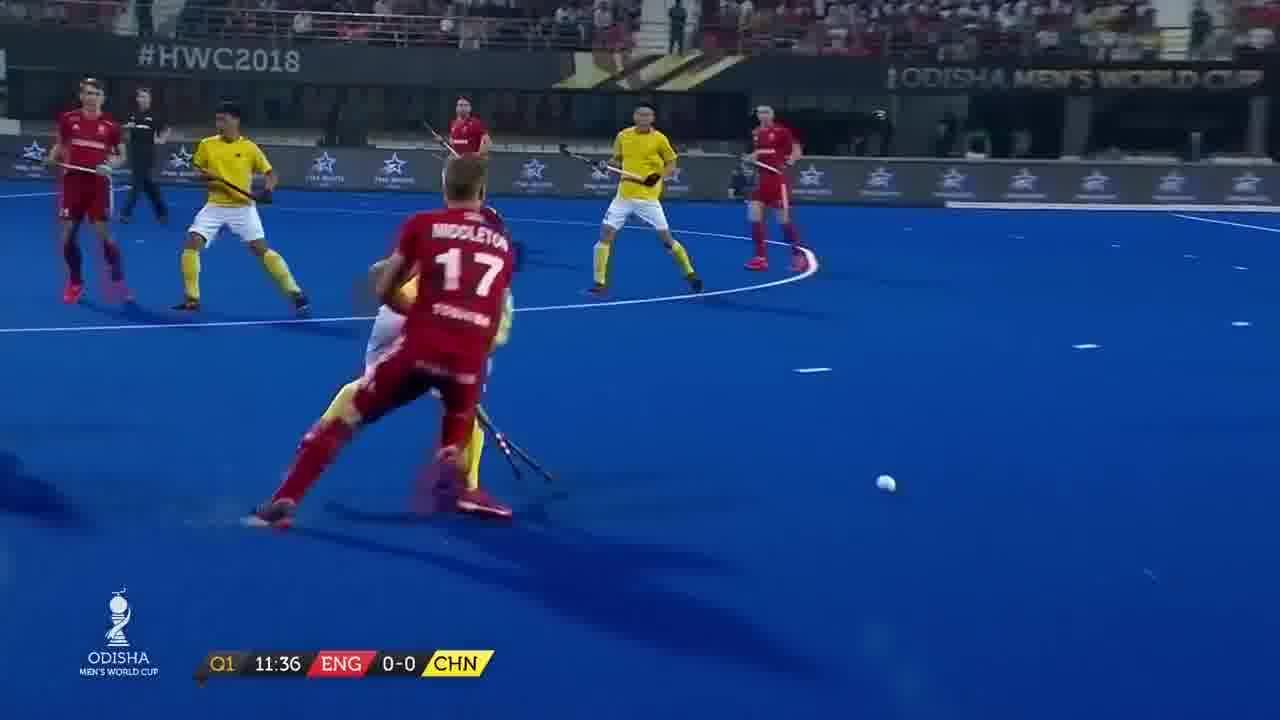ball: (862, 461, 906, 508)
